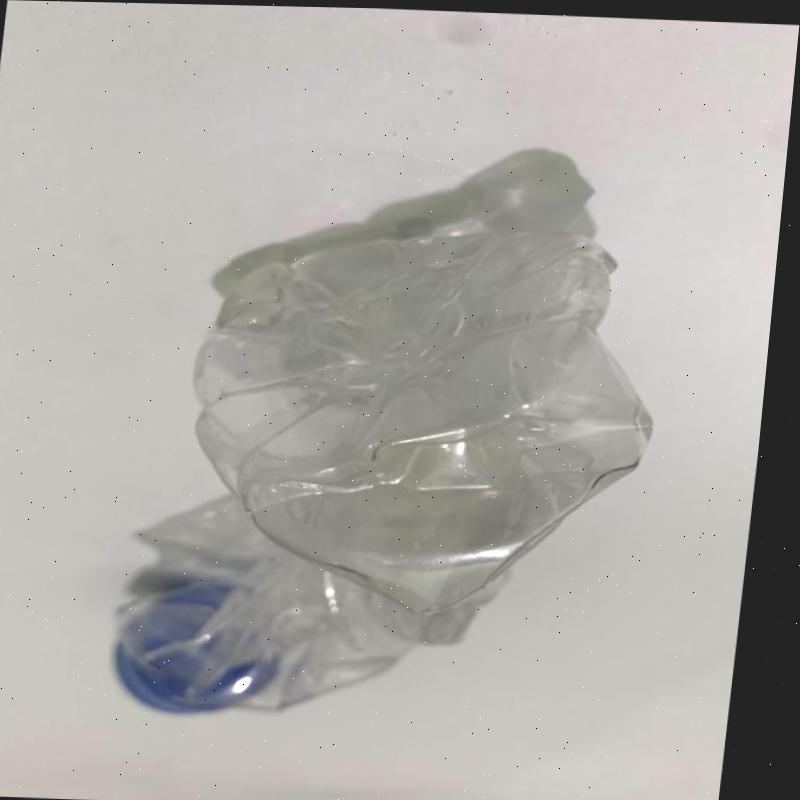botella: (94, 122, 690, 732)
